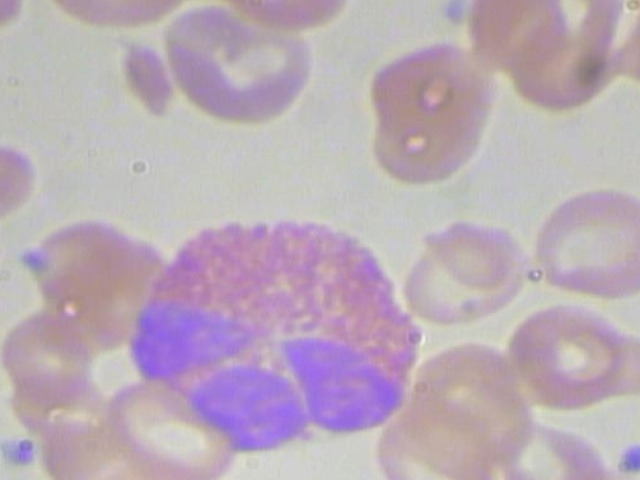Platelets: (607, 434, 640, 477), (0, 432, 41, 466)
RBC: (155, 0, 325, 133), (357, 40, 493, 191), (389, 208, 534, 323), (527, 185, 640, 302), (0, 134, 35, 224)
WBC: (114, 211, 427, 454)
